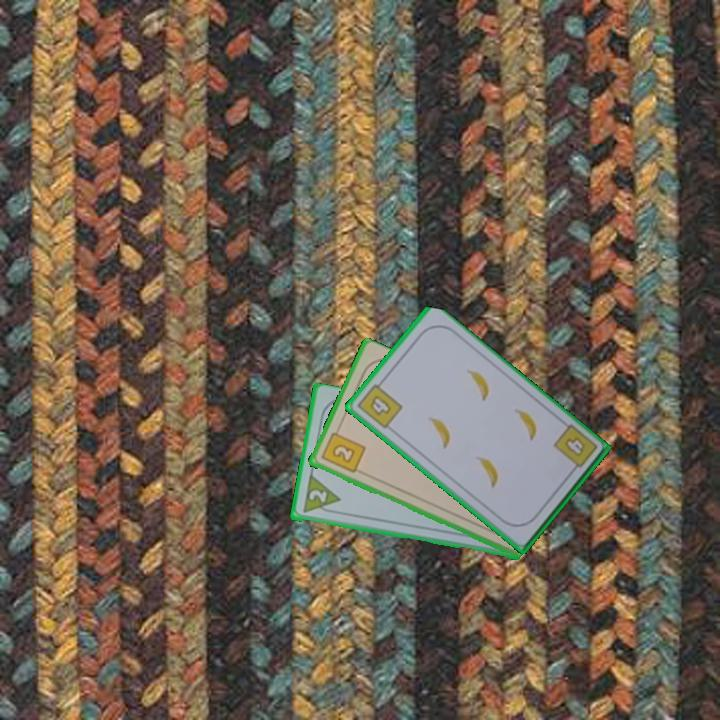2b: (317, 424, 368, 476)
2p: (299, 473, 343, 517)
4b: (353, 377, 406, 432), (550, 421, 600, 477)
